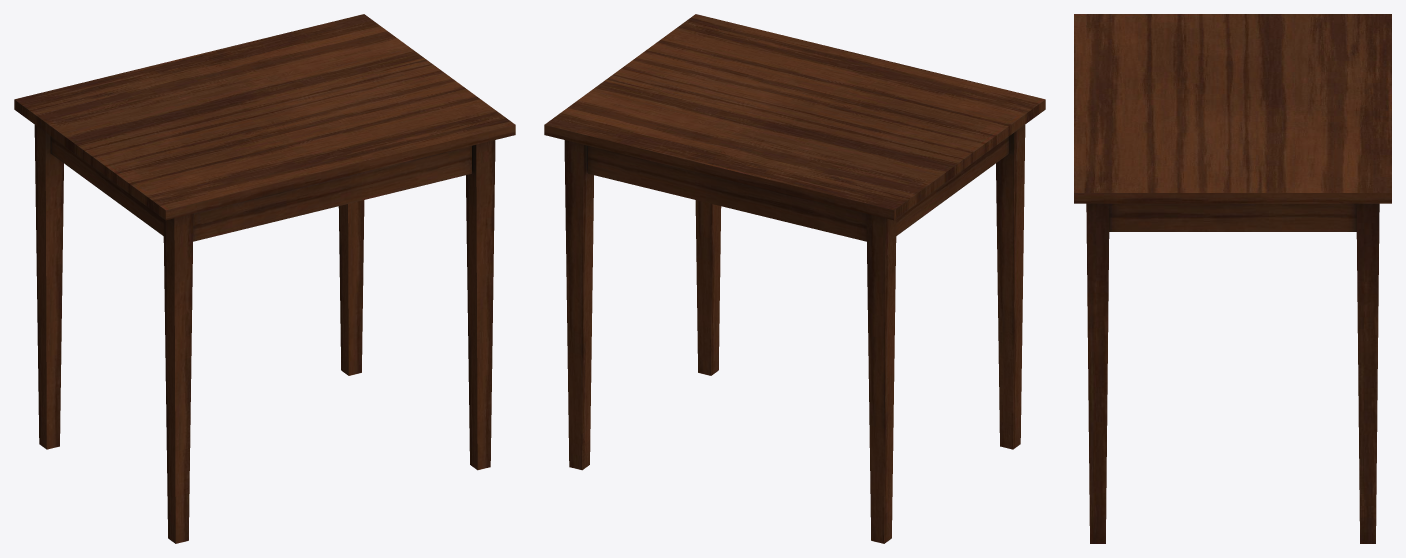
File: table_kitchen_web.glb
The picture shows the model from 3 angles, left to right: view 1: azimuth 30°, elevation 25°; view 2: azimuth 150°, elevation 25°; view 3: azimuth 270°, elevation 25°; orthographic projection. The views are drawn at different scales.
Parts seen in each view (by area): view 1: TableKitchen_Mesh; view 2: TableKitchen_Mesh; view 3: TableKitchen_Mesh.
Boxes of the visible parts, left/top/right/bottom form: TableKitchen_Mesh: left=14, top=14, right=515, bottom=543; TableKitchen_Mesh: left=544, top=14, right=1045, bottom=543; TableKitchen_Mesh: left=1074, top=14, right=1391, bottom=543.
Size of the model in its own units: 0.8 by 0.75 by 0.6.
Materials: 1 (1 with a texture image).
